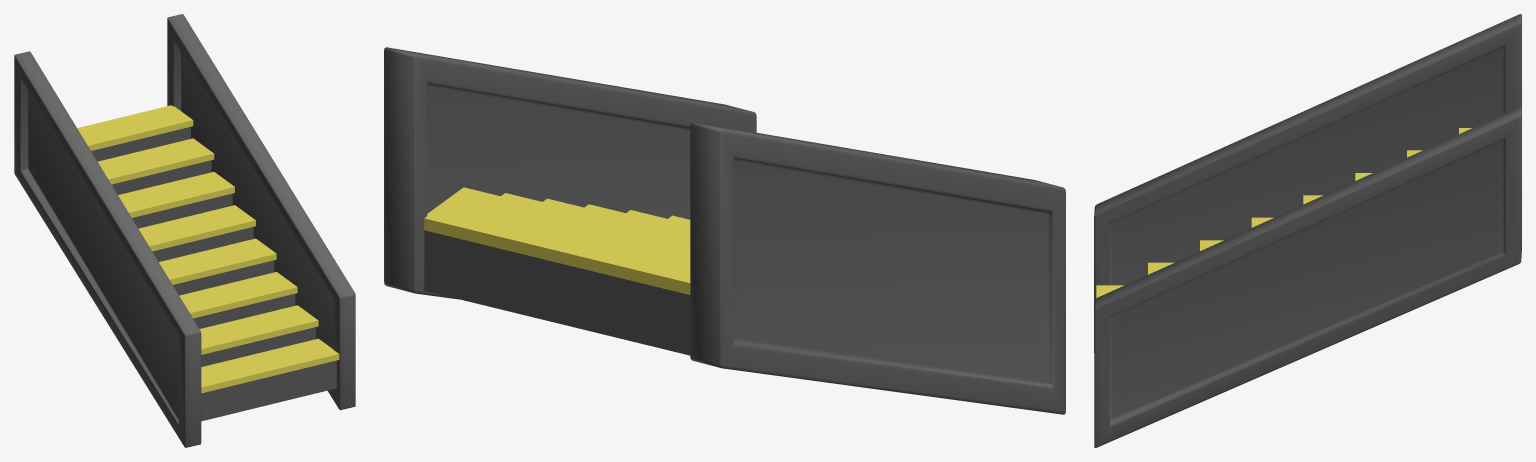
Rendered from Escalator.fbx.
3 renders of one model, left to right at view 1: azimuth 30°, elevation 25°; view 2: azimuth 150°, elevation 25°; view 3: azimuth 270°, elevation 25°, orthographic. The views are drawn at different scales.
Visible parts, largest first — view 1: Cube, Cube.002, Cube.001; view 2: Cube.002, Cube.001, Cube; view 3: Cube.001, Cube.002, Cube.
Boxes of the visible parts, box(x1,y1,x2,y2) form: Cube: box(77, 105, 339, 421); Cube.002: box(14, 51, 201, 447); Cube.001: box(167, 14, 355, 410); Cube.002: box(690, 122, 1065, 414); Cube.001: box(384, 47, 756, 299); Cube: box(424, 187, 690, 355); Cube.001: box(1094, 106, 1521, 447); Cube.002: box(1094, 14, 1521, 352); Cube: box(1096, 128, 1471, 297).
Bounding box in the file's own units: 988 × 1477 × 1725.
